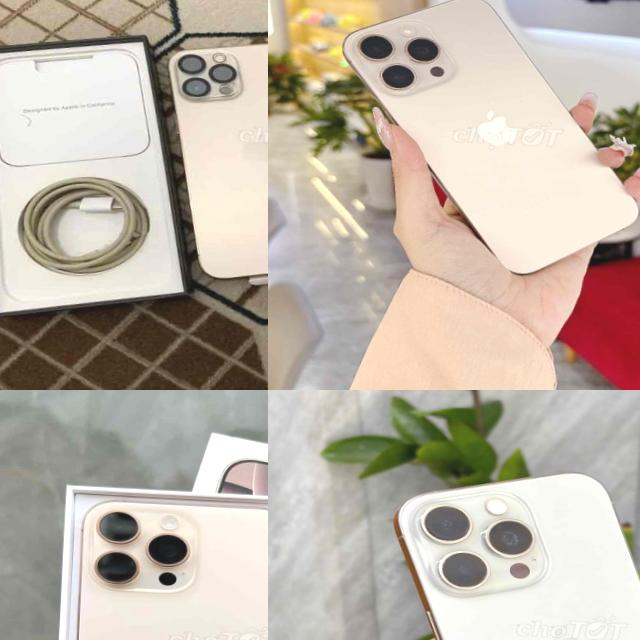gen_12_13: (146, 35, 268, 290)
gen_16: (343, 0, 637, 273), (363, 457, 640, 640), (53, 489, 268, 640)
